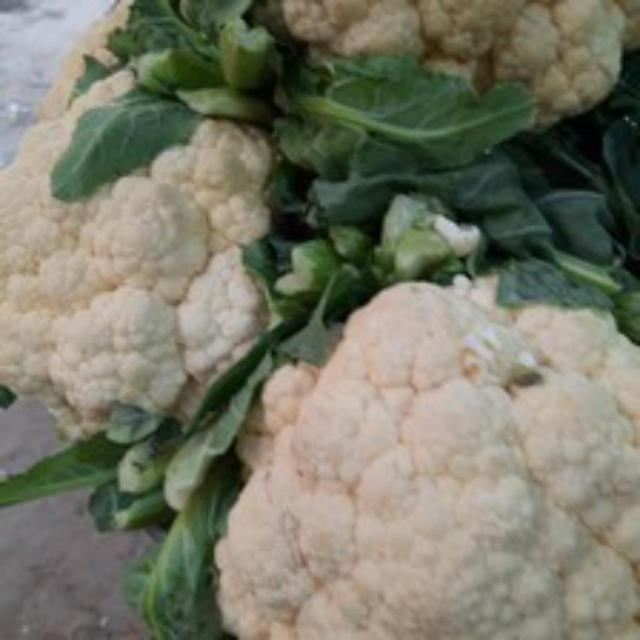cauliflower: (200, 260, 637, 637)
